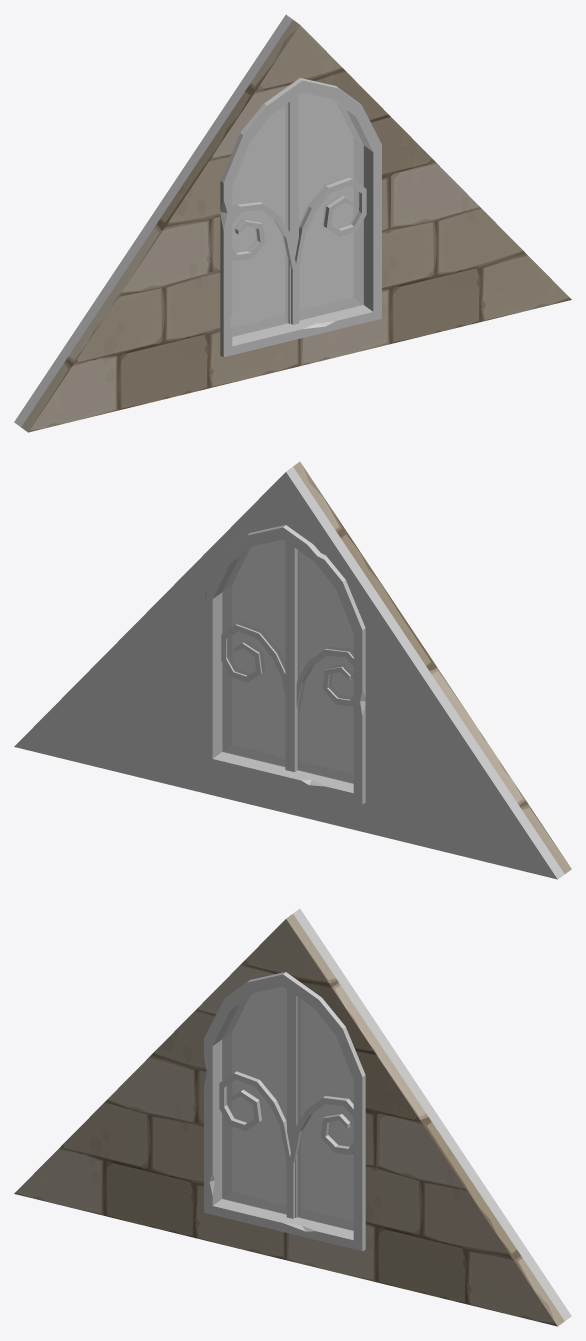
Rendered from SM_Bld_Wall_End_Straight_Large_Window_01.fbx.
3 views of the same model, one above another, from view 1: azimuth 30°, elevation 25°; view 2: azimuth 150°, elevation 25°; view 3: azimuth 330°, elevation 25° (orthographic).
Visible parts, largest first — view 1: SM_Bld_Wall_End_Straight_Large_Window_01, SM_Bld_Wall_End_Straight_Large_Window_01_Glass; view 2: SM_Bld_Wall_End_Straight_Large_Window_01, SM_Bld_Wall_End_Straight_Large_Window_01_Glass; view 3: SM_Bld_Wall_End_Straight_Large_Window_01, SM_Bld_Wall_End_Straight_Large_Window_01_Glass.
Boxes of the visible parts, x1,y1,x2,y2 form: SM_Bld_Wall_End_Straight_Large_Window_01: (14,14,571,432); SM_Bld_Wall_End_Straight_Large_Window_01_Glass: (230,92,363,336); SM_Bld_Wall_End_Straight_Large_Window_01: (14,461,571,879); SM_Bld_Wall_End_Straight_Large_Window_01_Glass: (222,539,353,783); SM_Bld_Wall_End_Straight_Large_Window_01: (14,908,571,1326); SM_Bld_Wall_End_Straight_Large_Window_01_Glass: (222,986,353,1230).
Size of the model in its own units: 500 by 300 by 31.23.
